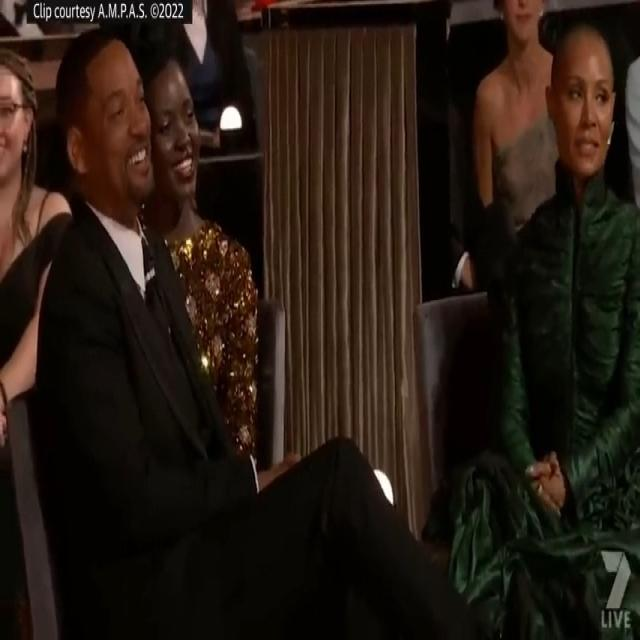non-fight: (35, 16, 640, 640)
